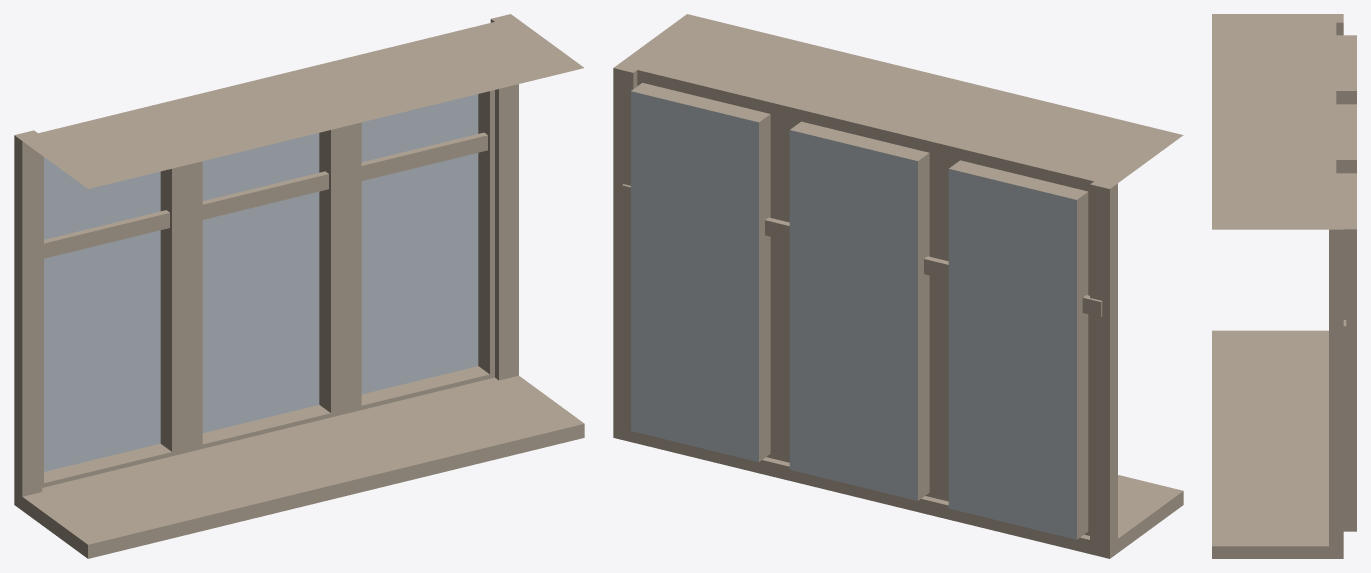
File: fbx_building_1_window2.fbx
The picture shows the model from 3 angles, left to right: view 1: azimuth 30°, elevation 25°; view 2: azimuth 150°, elevation 25°; view 3: azimuth 270°, elevation 25°; orthographic projection. The views are drawn at different scales.
Parts seen in each view (by area): view 1: fbx_building_1_window2; view 2: fbx_building_1_window2; view 3: fbx_building_1_window2.
Boxes of the visible parts, x1,y1,x2,y2 form: fbx_building_1_window2: [14, 14, 584, 558]; fbx_building_1_window2: [613, 14, 1183, 558]; fbx_building_1_window2: [1212, 14, 1356, 558].
Size of the model in its own units: 1.07 by 0.7599 by 0.3027.
Materials: 2 (1 with a texture image).
